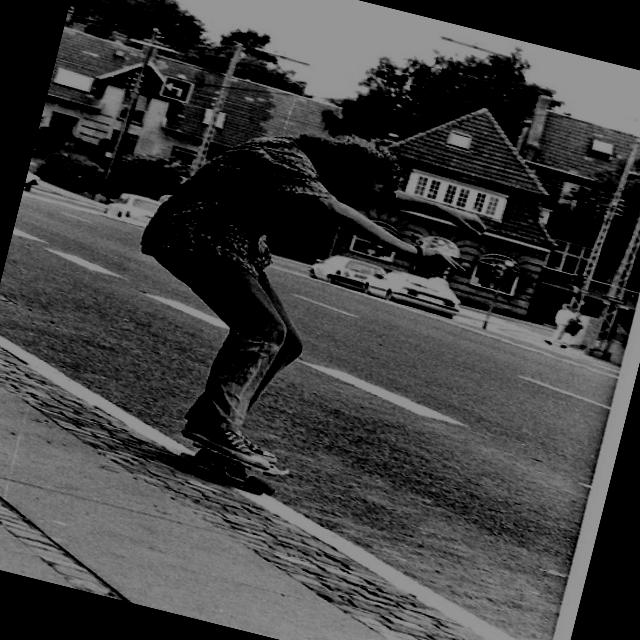Vehicle: (360, 262, 466, 318), (306, 248, 388, 295), (101, 188, 161, 230), (22, 161, 46, 193)
